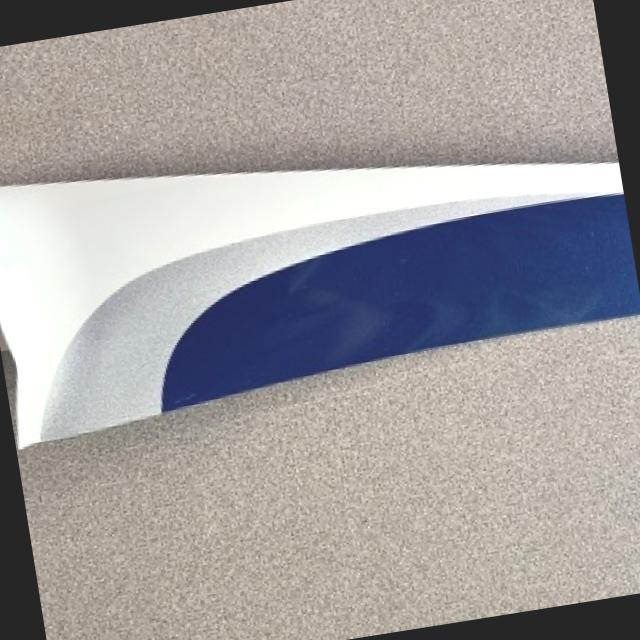healthy: (306, 264, 640, 361)
